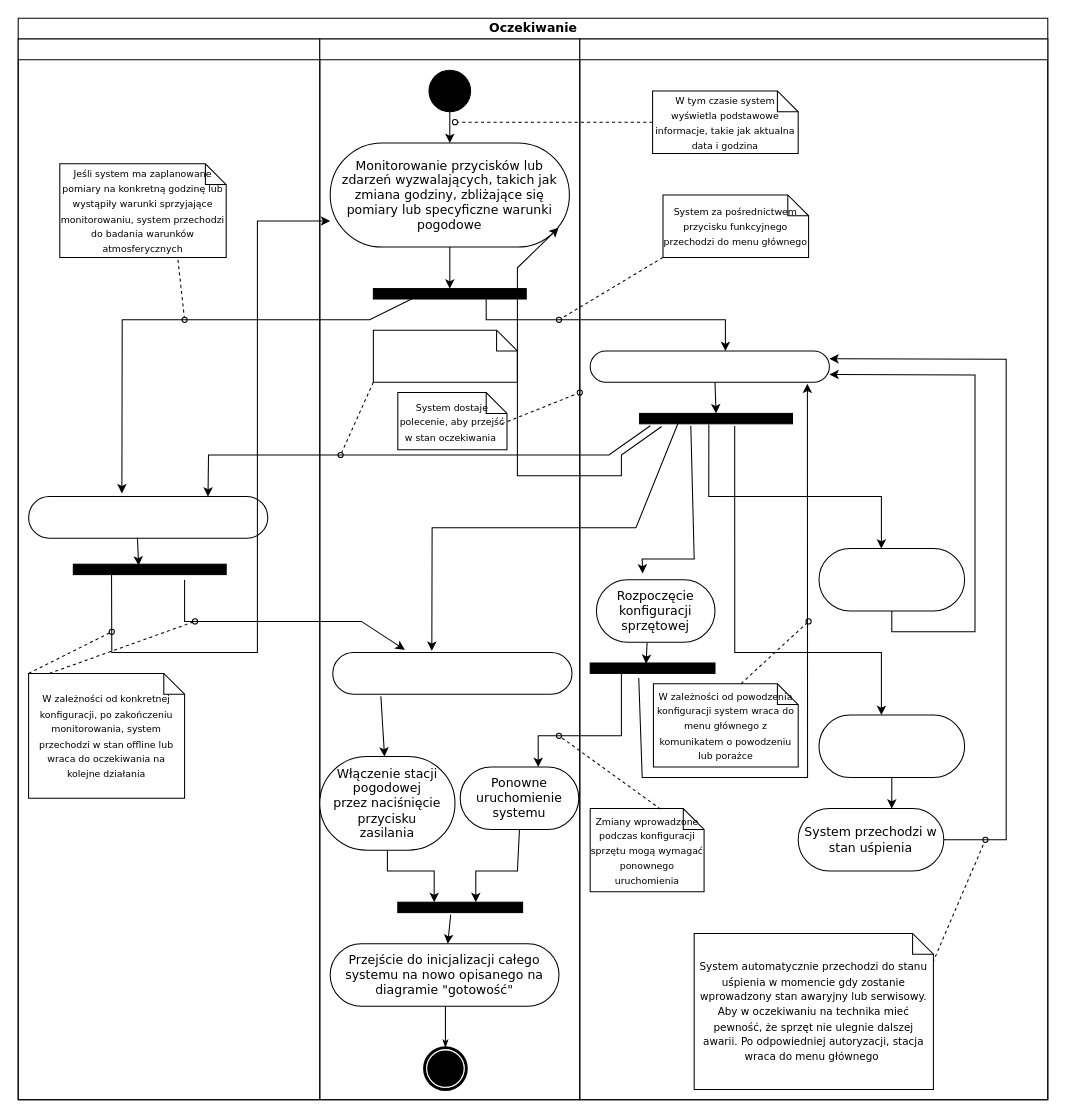
The diagram is 1066 pixels wide and 1118 high, and some of its shapes have lost their labels. The shapes that lost their labels are listed below. From the top down, each one's centre as x and y in pixels, then its label:
At point 444,355: "System dostaje polecenie, aby rozpocząć monitorowanie warunków pogodowych".
At point 709,366: "Przejście do menu głównego w celu wybrania konkretnego trybu pracy".
At point 148,517: "System przechodzi do monitorowania warunków pogodowych".
At point 891,579: "System przechodzi w stan oszczędzania energii".
At point 452,673: "System przechodzi w stan offline".
At point 891,745: "System przechodzi w stan awaryjny lub serwisowy".
